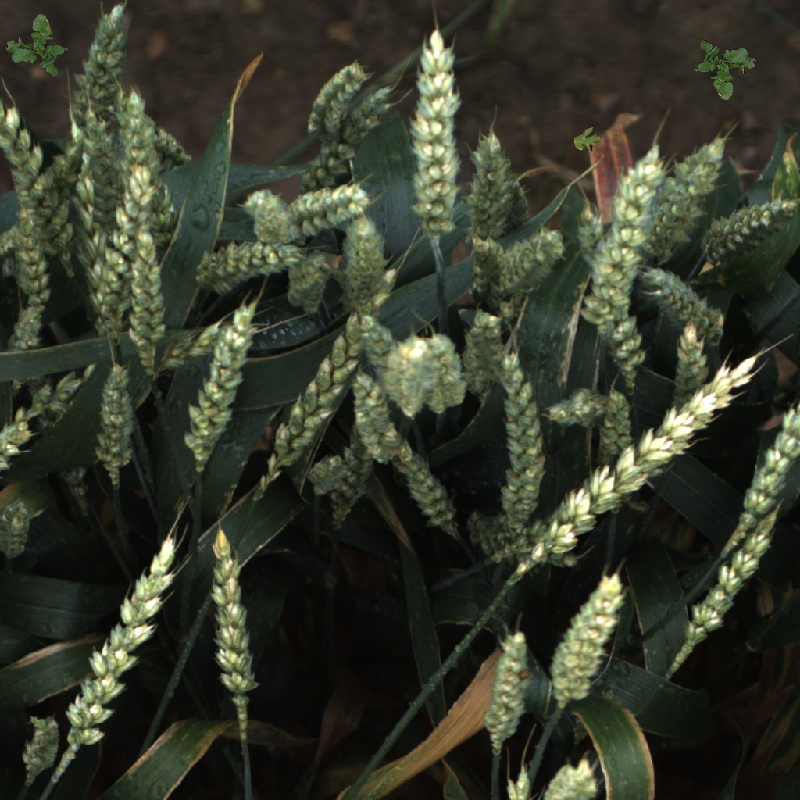spikelet: (547, 350, 762, 564), (252, 267, 402, 496), (47, 528, 182, 759), (567, 136, 667, 330), (668, 510, 782, 654), (1, 93, 80, 280), (176, 300, 259, 471), (66, 119, 123, 337), (89, 164, 160, 338), (546, 569, 631, 707), (206, 517, 263, 709), (411, 22, 463, 231), (61, 1, 137, 139), (650, 121, 728, 254), (29, 374, 97, 515), (494, 346, 551, 514), (1, 361, 85, 474), (307, 87, 400, 186), (472, 624, 537, 754), (737, 385, 800, 518), (465, 506, 573, 574), (77, 107, 125, 257), (185, 233, 303, 293), (638, 255, 722, 339), (125, 225, 168, 376), (458, 129, 514, 241), (90, 356, 141, 478), (347, 365, 407, 461), (397, 439, 454, 539), (296, 62, 371, 136), (707, 192, 797, 252), (452, 305, 509, 396), (285, 176, 372, 235), (380, 330, 435, 420), (500, 227, 567, 300), (416, 321, 466, 414), (9, 210, 56, 308), (342, 210, 386, 314), (3, 288, 46, 391), (278, 248, 338, 321), (669, 314, 707, 422), (328, 444, 375, 529), (121, 88, 165, 178), (592, 383, 643, 459), (540, 382, 609, 435), (453, 232, 503, 300), (600, 310, 647, 382), (358, 314, 402, 388), (164, 320, 219, 374), (565, 198, 607, 266), (253, 198, 307, 250), (17, 716, 60, 776), (307, 446, 350, 500), (540, 760, 597, 800), (146, 176, 178, 246), (499, 169, 532, 235), (152, 124, 193, 169), (1, 500, 31, 559), (1, 222, 28, 283), (241, 186, 284, 220), (486, 288, 525, 324)
weed: (689, 31, 762, 105), (5, 14, 68, 77), (574, 127, 602, 152)
